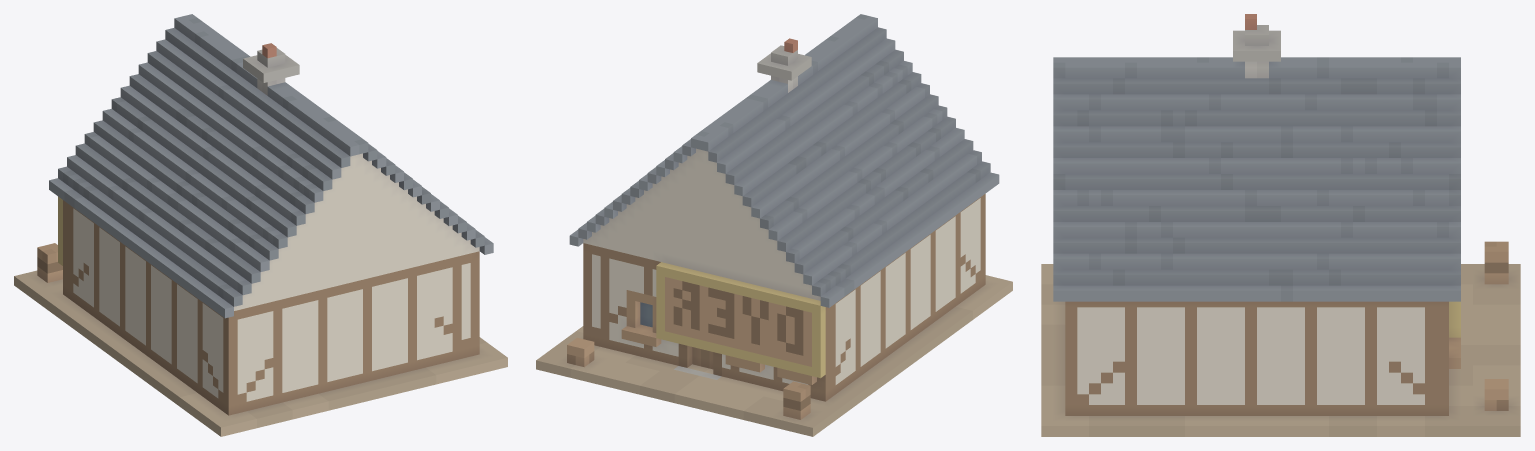
Rendered from dyer.glb.
3 renders of one model, left to right at view 1: azimuth 30°, elevation 25°; view 2: azimuth 150°, elevation 25°; view 3: azimuth 270°, elevation 25°, orthographic. The views are drawn at different scales.
Visible parts, largest first — view 1: dyer; view 2: dyer; view 3: dyer.
Part boxes in pixels (x1,y1,x2,y2): dyer: (14, 14, 507, 436); dyer: (536, 14, 1012, 436); dyer: (1041, 14, 1520, 436).
Bounding box in the file's own units: 4 × 3.88 × 5.
